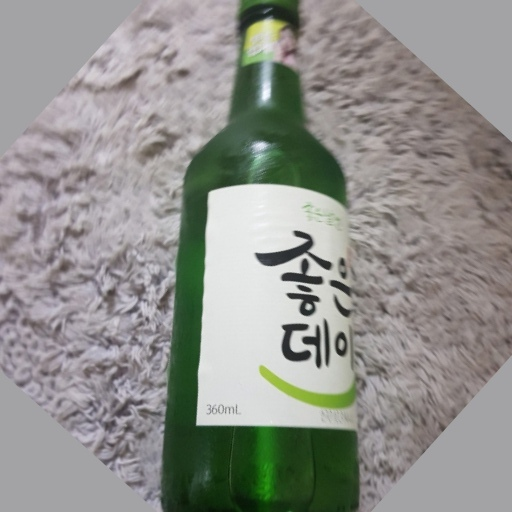Glass_0: (162, 1, 359, 512)
